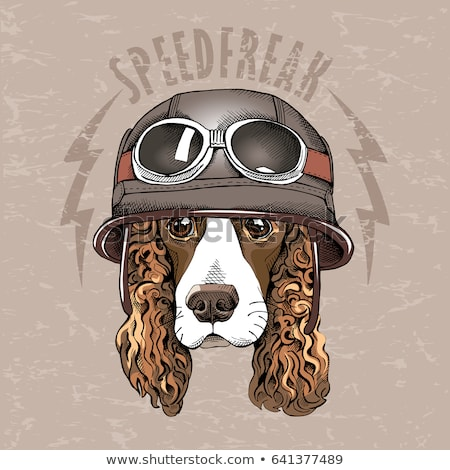with_helmet: (93, 90, 357, 274)
